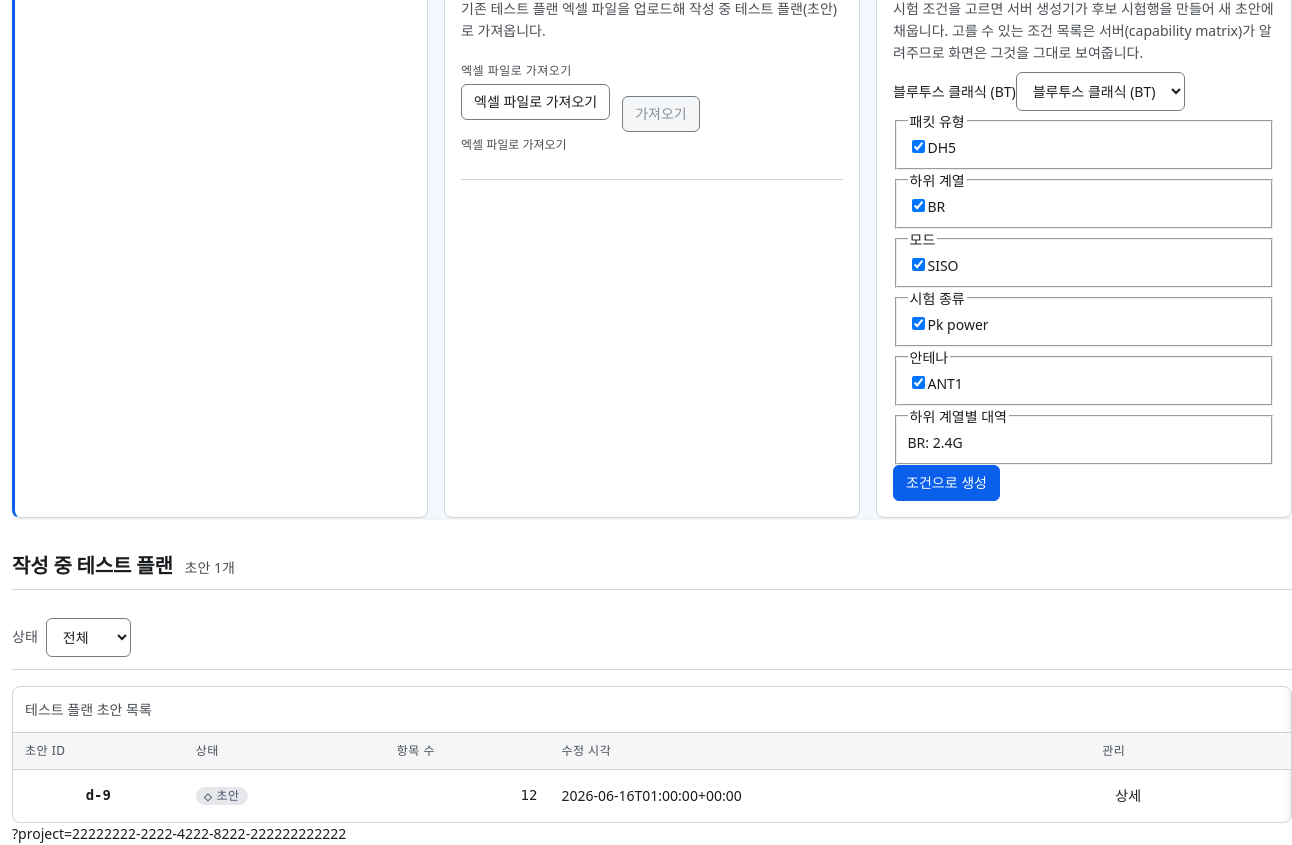
Test case: TestPlansRoute › refetches BOTH the list and the open detail after publish (MUST #4 regression)
(page scrolled)
# Open the detail so its query is subscribed (and thus refetchable).
Click the button with test id "test-plans-detail-button" at (1128, 796), box [1102,778,1154,814]
(page scrolled)
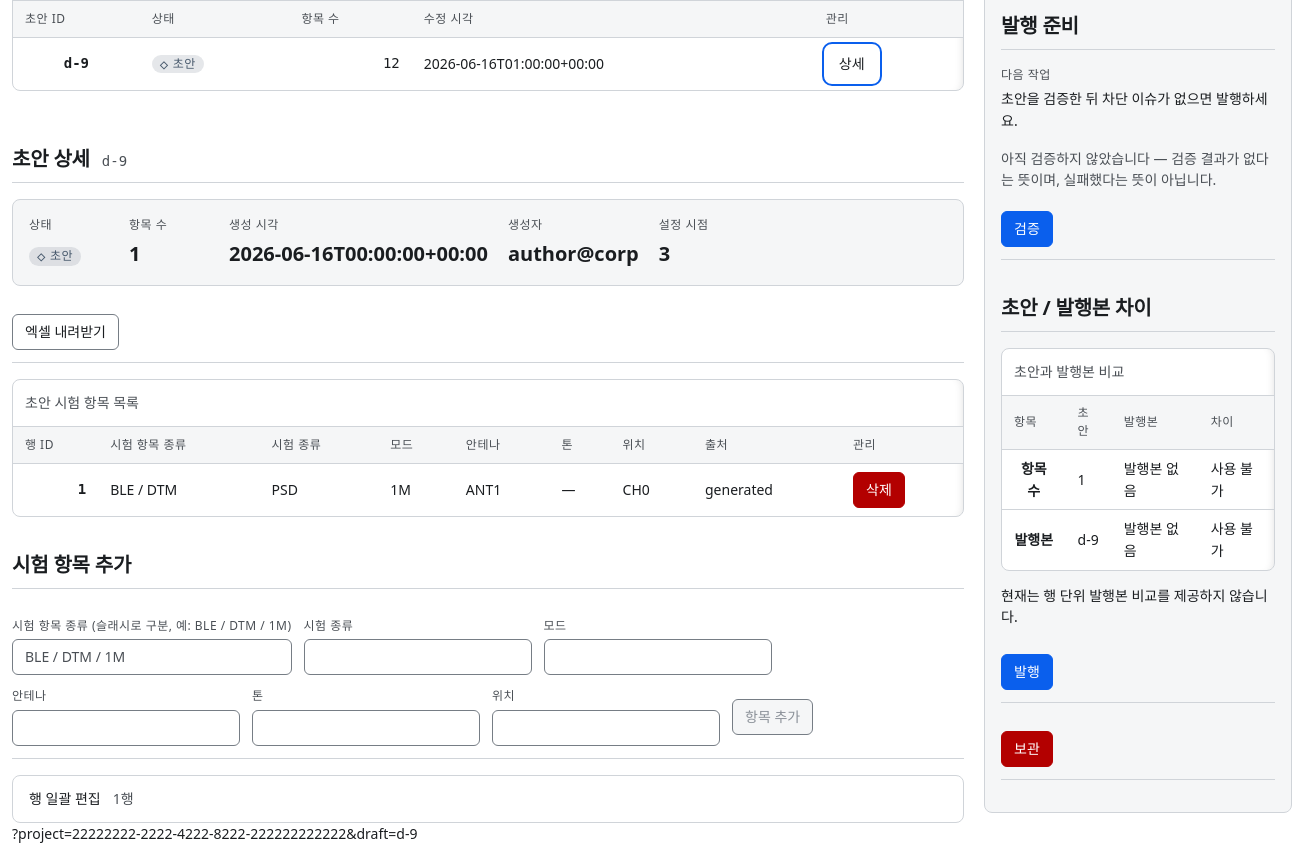
Expected: the table with test id "test-plans-detail-table" is shown, [13,380,963,516]
Click the button with test id "test-plans-publish" at (1027, 672), box [1001,654,1053,690]
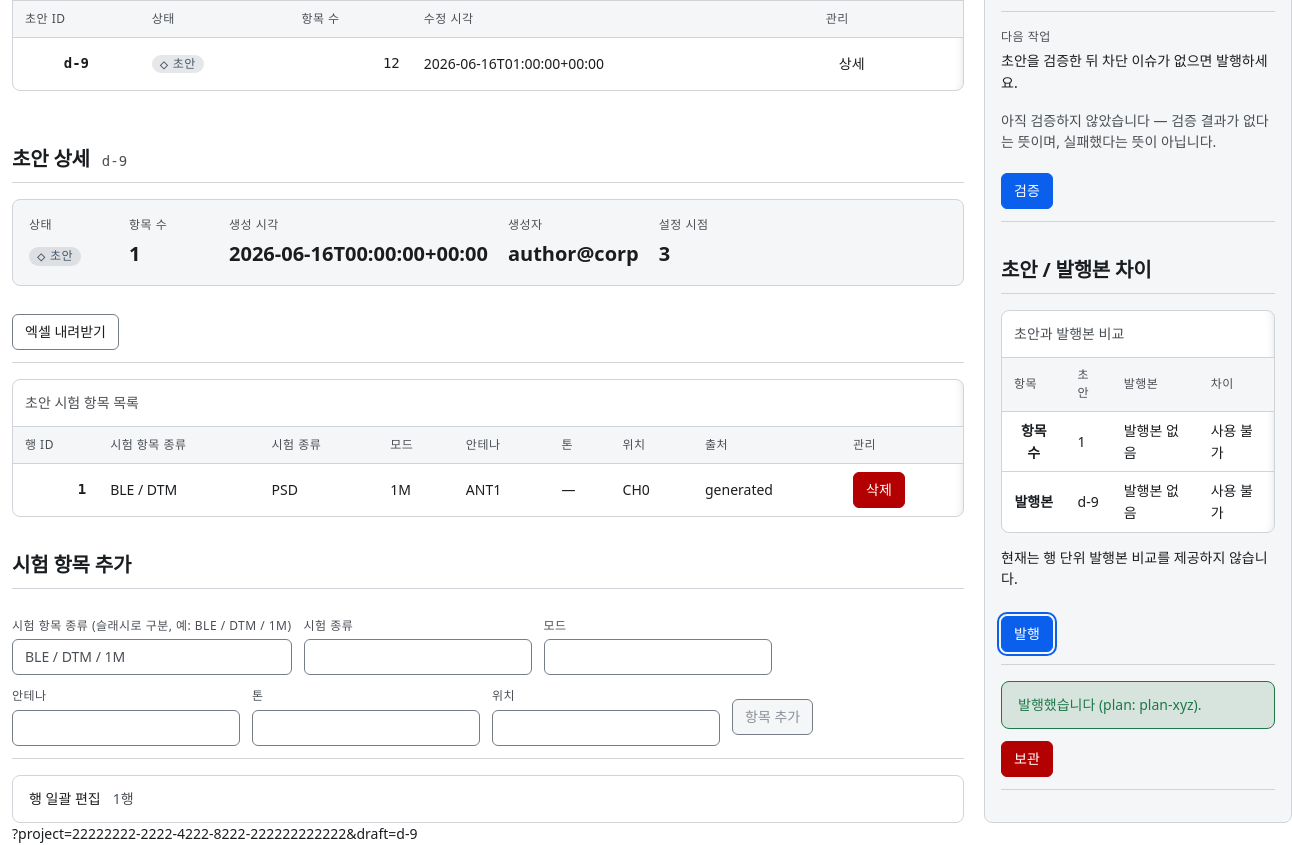
Expected: the message "발행했습니다 (plan: plan-xyz)." is shown, [1001,681,1275,729]
